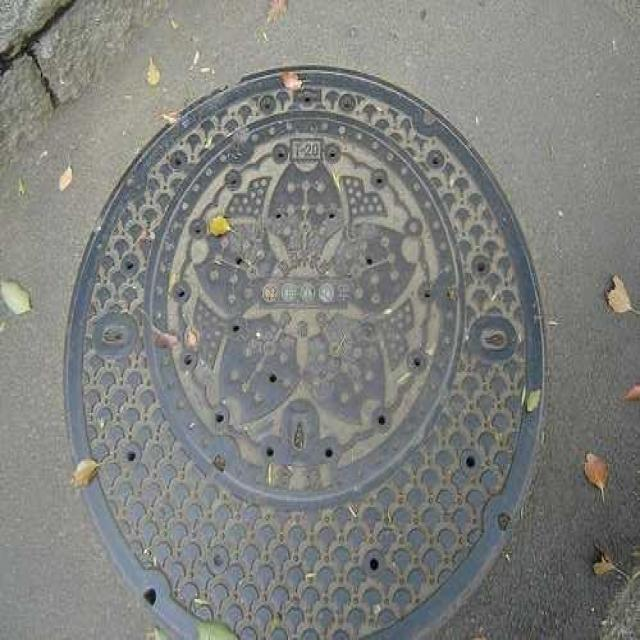manhole: (63, 67, 547, 640)
